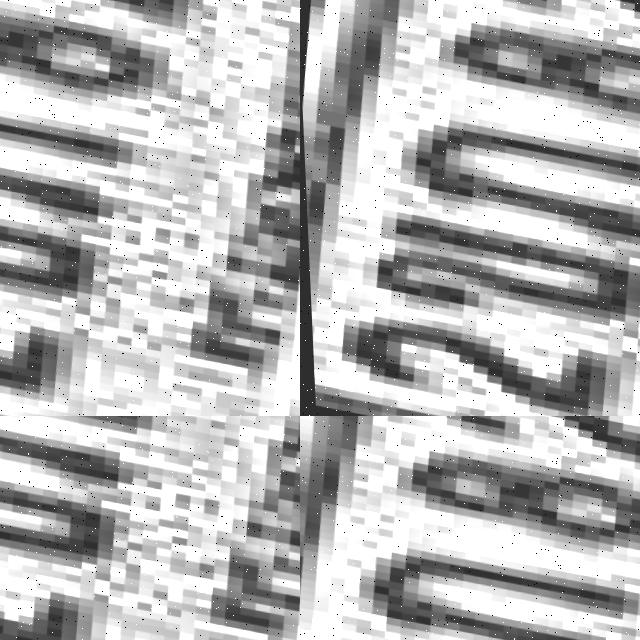license-plate: (0, 0, 300, 416), (300, 416, 640, 640)
